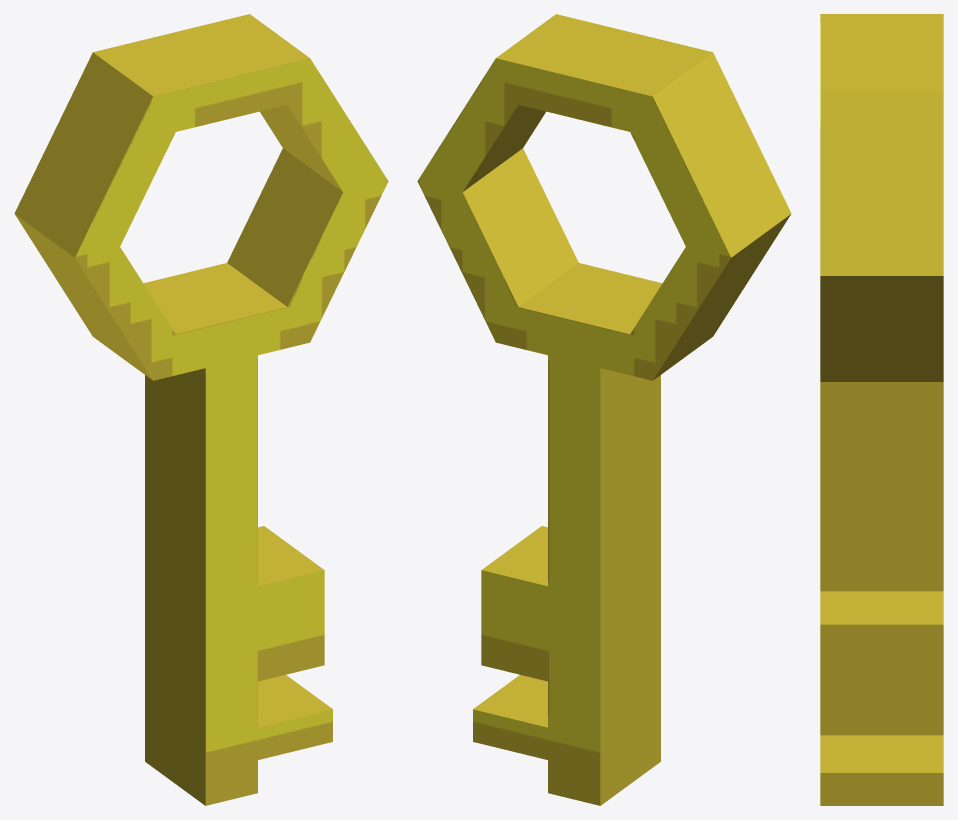
The model's file is Key.fbx.
The picture shows the model from 3 angles, left to right: view 1: azimuth 30°, elevation 25°; view 2: azimuth 150°, elevation 25°; view 3: azimuth 270°, elevation 25°; orthographic projection.
Visible parts, largest first — view 1: Cylinder; view 2: Cylinder; view 3: Cylinder.
Part boxes in pixels (x1,y1,x2,y2): Cylinder: (14,14,388,805); Cylinder: (417,14,791,805); Cylinder: (820,14,943,805).
Bounding box in the file's own units: 60 × 132 × 20.
1 material, 1 textured.
